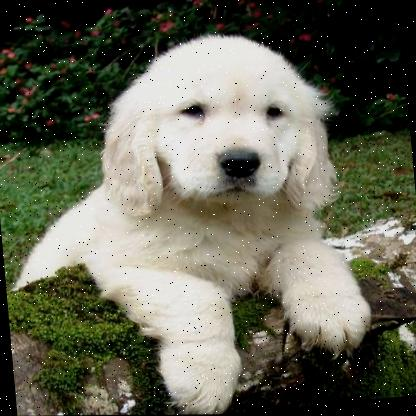dog: (0, 10, 392, 416)
